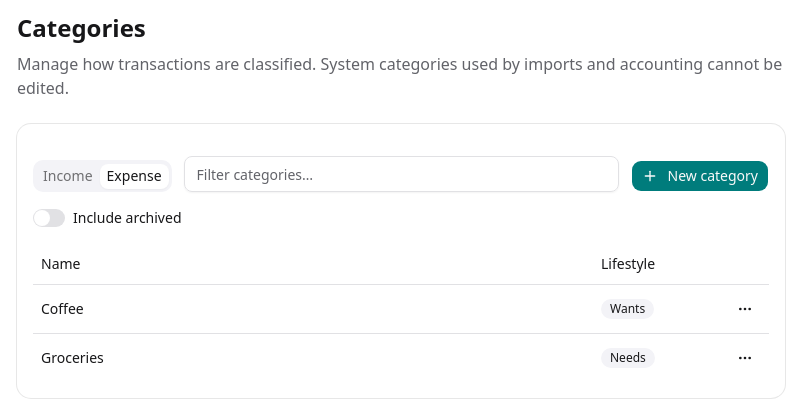
Test: CategoriesLayout › shows search-empty state with Clear search link when no rows match
Expected: the text "Groceries" is shown, left=41, top=348, right=104, bottom=368
Type "zzznomatch" into the field with placeholder "Filter categories…".
click(401, 174); type("zzznomatch")  # box left=184, top=156, right=618, bottom=192
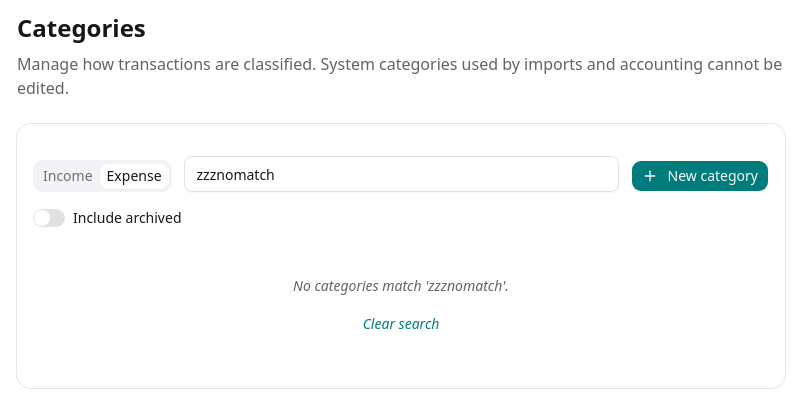
Expected: the text "No categories match 'zzznomatch'." is shown, left=293, top=276, right=509, bottom=295
Expected: the button "Clear search" is shown, left=352, top=308, right=450, bottom=340
